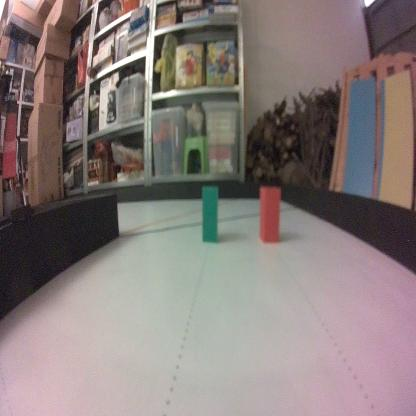green: (201, 182, 218, 245)
red: (257, 184, 283, 247)
